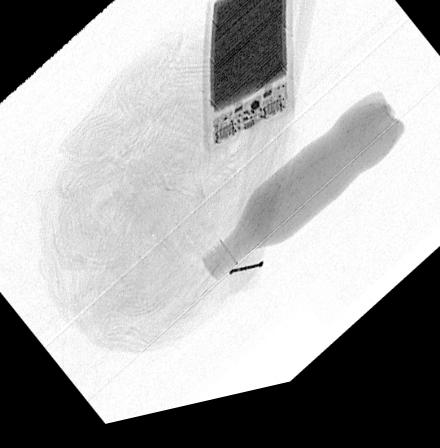Powerbank: (205, 0, 297, 161)
